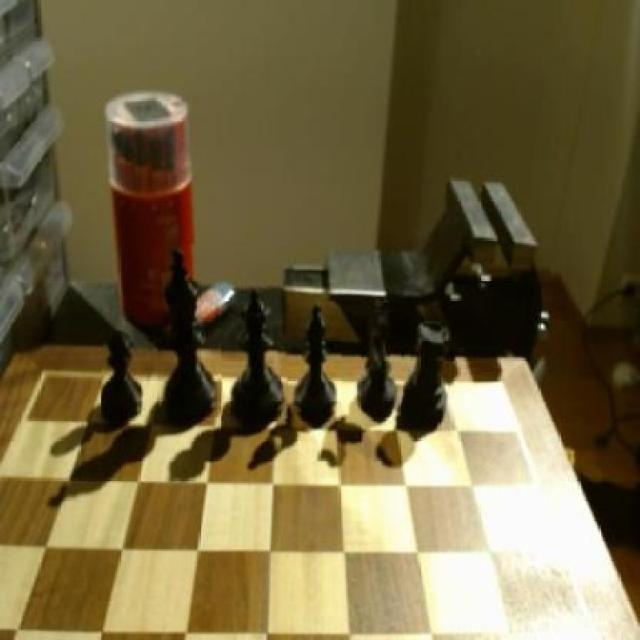bishop: (290, 300, 342, 425)
black-bishop: (154, 243, 220, 419)
black-king: (360, 303, 403, 419)
black-knight: (100, 332, 151, 424)
black-pawn: (230, 286, 288, 421)
black-queen: (403, 315, 456, 430)
